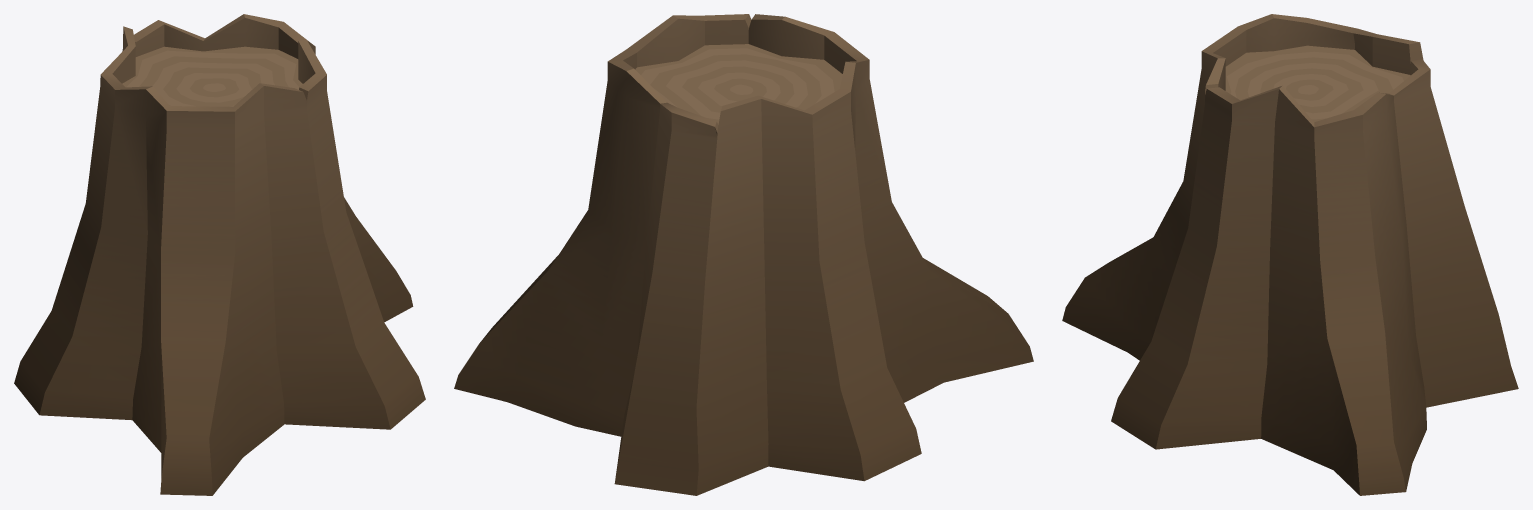
Rendered from Stump_02.fbx.
The picture shows the model from 3 angles, left to right: view 1: azimuth 30°, elevation 25°; view 2: azimuth 150°, elevation 25°; view 3: azimuth 270°, elevation 25°; orthographic projection. The views are drawn at different scales.
Visible parts, largest first — view 1: Stump_02_LOD0; view 2: Stump_02_LOD0; view 3: Stump_02_LOD0.
Part boxes in pixels (left/top/right/bottom): Stump_02_LOD0: left=14, top=14, right=425, bottom=495; Stump_02_LOD0: left=454, top=14, right=1033, bottom=495; Stump_02_LOD0: left=1062, top=14, right=1518, bottom=495.
Size of what is drawn, in the model's own units: 0.6168 by 0.495 by 0.6116.
